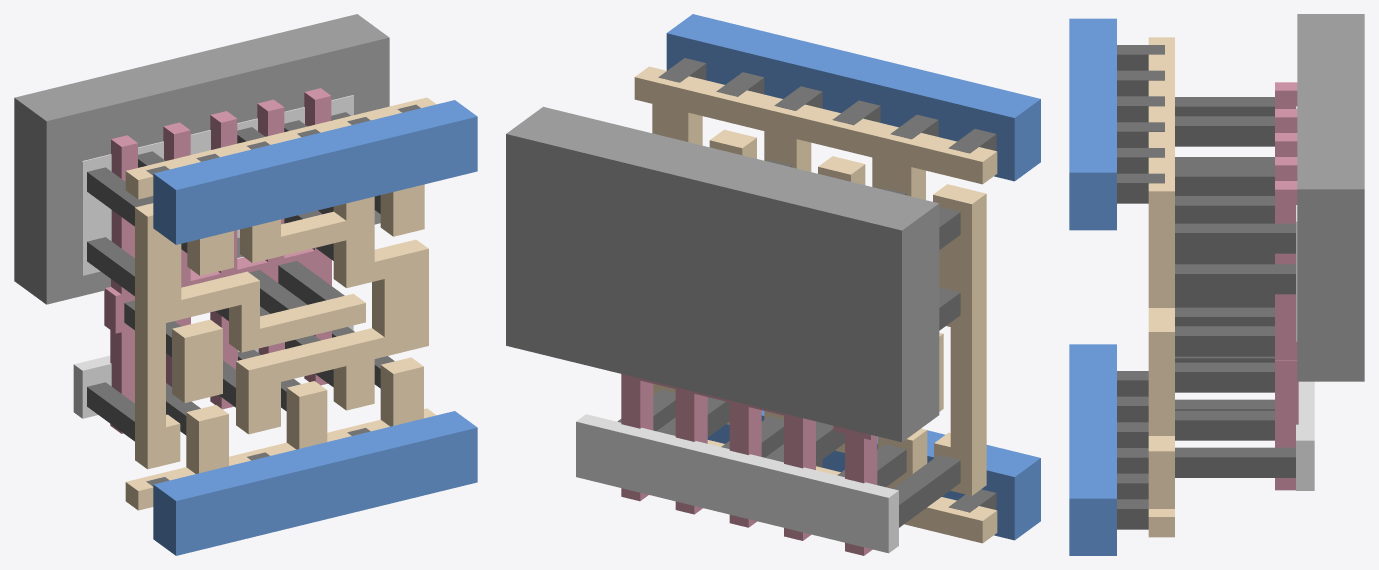
File: sky130_fd_sc_hd__clkbuf_4.gds.gltf
The picture shows the model from 3 angles, left to right: view 1: azimuth 30°, elevation 25°; view 2: azimuth 150°, elevation 25°; view 3: azimuth 270°, elevation 25°; orthographic projection. The views are drawn at different scales.
Parts seen in each view (by area): view 1: sky130_fd_sc_hd__clkbuf_4_li1, sky130_fd_sc_hd__clkbuf_4_met1, sky130_fd_sc_hd__clkbuf_4_nwell, sky130_fd_sc_hd__clkbuf_4_licon, sky130_fd_sc_hd__clkbuf_4_poly, sky130_fd_sc_hd__clkbuf_4_diff, sky130_fd_sc_hd__clkbuf_4_mcon; view 2: sky130_fd_sc_hd__clkbuf_4_nwell, sky130_fd_sc_hd__clkbuf_4_li1, sky130_fd_sc_hd__clkbuf_4_met1, sky130_fd_sc_hd__clkbuf_4_diff, sky130_fd_sc_hd__clkbuf_4_poly, sky130_fd_sc_hd__clkbuf_4_licon, sky130_fd_sc_hd__clkbuf_4_mcon; view 3: sky130_fd_sc_hd__clkbuf_4_licon, sky130_fd_sc_hd__clkbuf_4_nwell, sky130_fd_sc_hd__clkbuf_4_met1, sky130_fd_sc_hd__clkbuf_4_li1, sky130_fd_sc_hd__clkbuf_4_mcon, sky130_fd_sc_hd__clkbuf_4_poly, sky130_fd_sc_hd__clkbuf_4_diff.
Part boxes in pixels (box(x1,y1,x2,y2)): sky130_fd_sc_hd__clkbuf_4_li1: box(125, 97, 436, 510); sky130_fd_sc_hd__clkbuf_4_met1: box(153, 100, 477, 555); sky130_fd_sc_hd__clkbuf_4_nwell: box(14, 14, 389, 304); sky130_fd_sc_hd__clkbuf_4_licon: box(87, 112, 394, 441); sky130_fd_sc_hd__clkbuf_4_poly: box(104, 88, 331, 433); sky130_fd_sc_hd__clkbuf_4_diff: box(73, 95, 353, 418); sky130_fd_sc_hd__clkbuf_4_mcon: box(146, 104, 420, 486); sky130_fd_sc_hd__clkbuf_4_nwell: box(506, 106, 939, 442); sky130_fd_sc_hd__clkbuf_4_li1: box(634, 66, 997, 543); sky130_fd_sc_hd__clkbuf_4_met1: box(666, 14, 1040, 540); sky130_fd_sc_hd__clkbuf_4_diff: box(576, 414, 898, 553); sky130_fd_sc_hd__clkbuf_4_poly: box(621, 374, 877, 555); sky130_fd_sc_hd__clkbuf_4_licon: box(617, 160, 960, 527); sky130_fd_sc_hd__clkbuf_4_mcon: box(658, 58, 996, 512); sky130_fd_sc_hd__clkbuf_4_licon: box(1175, 97, 1295, 477); sky130_fd_sc_hd__clkbuf_4_nwell: box(1297, 14, 1364, 381); sky130_fd_sc_hd__clkbuf_4_met1: box(1069, 18, 1116, 555); sky130_fd_sc_hd__clkbuf_4_li1: box(1148, 37, 1174, 537); sky130_fd_sc_hd__clkbuf_4_mcon: box(1117, 45, 1164, 529); sky130_fd_sc_hd__clkbuf_4_poly: box(1275, 82, 1298, 490); sky130_fd_sc_hd__clkbuf_4_diff: box(1296, 106, 1314, 490).
Size of the model in its own units: 3.14 by 3.2 by 2.24.
